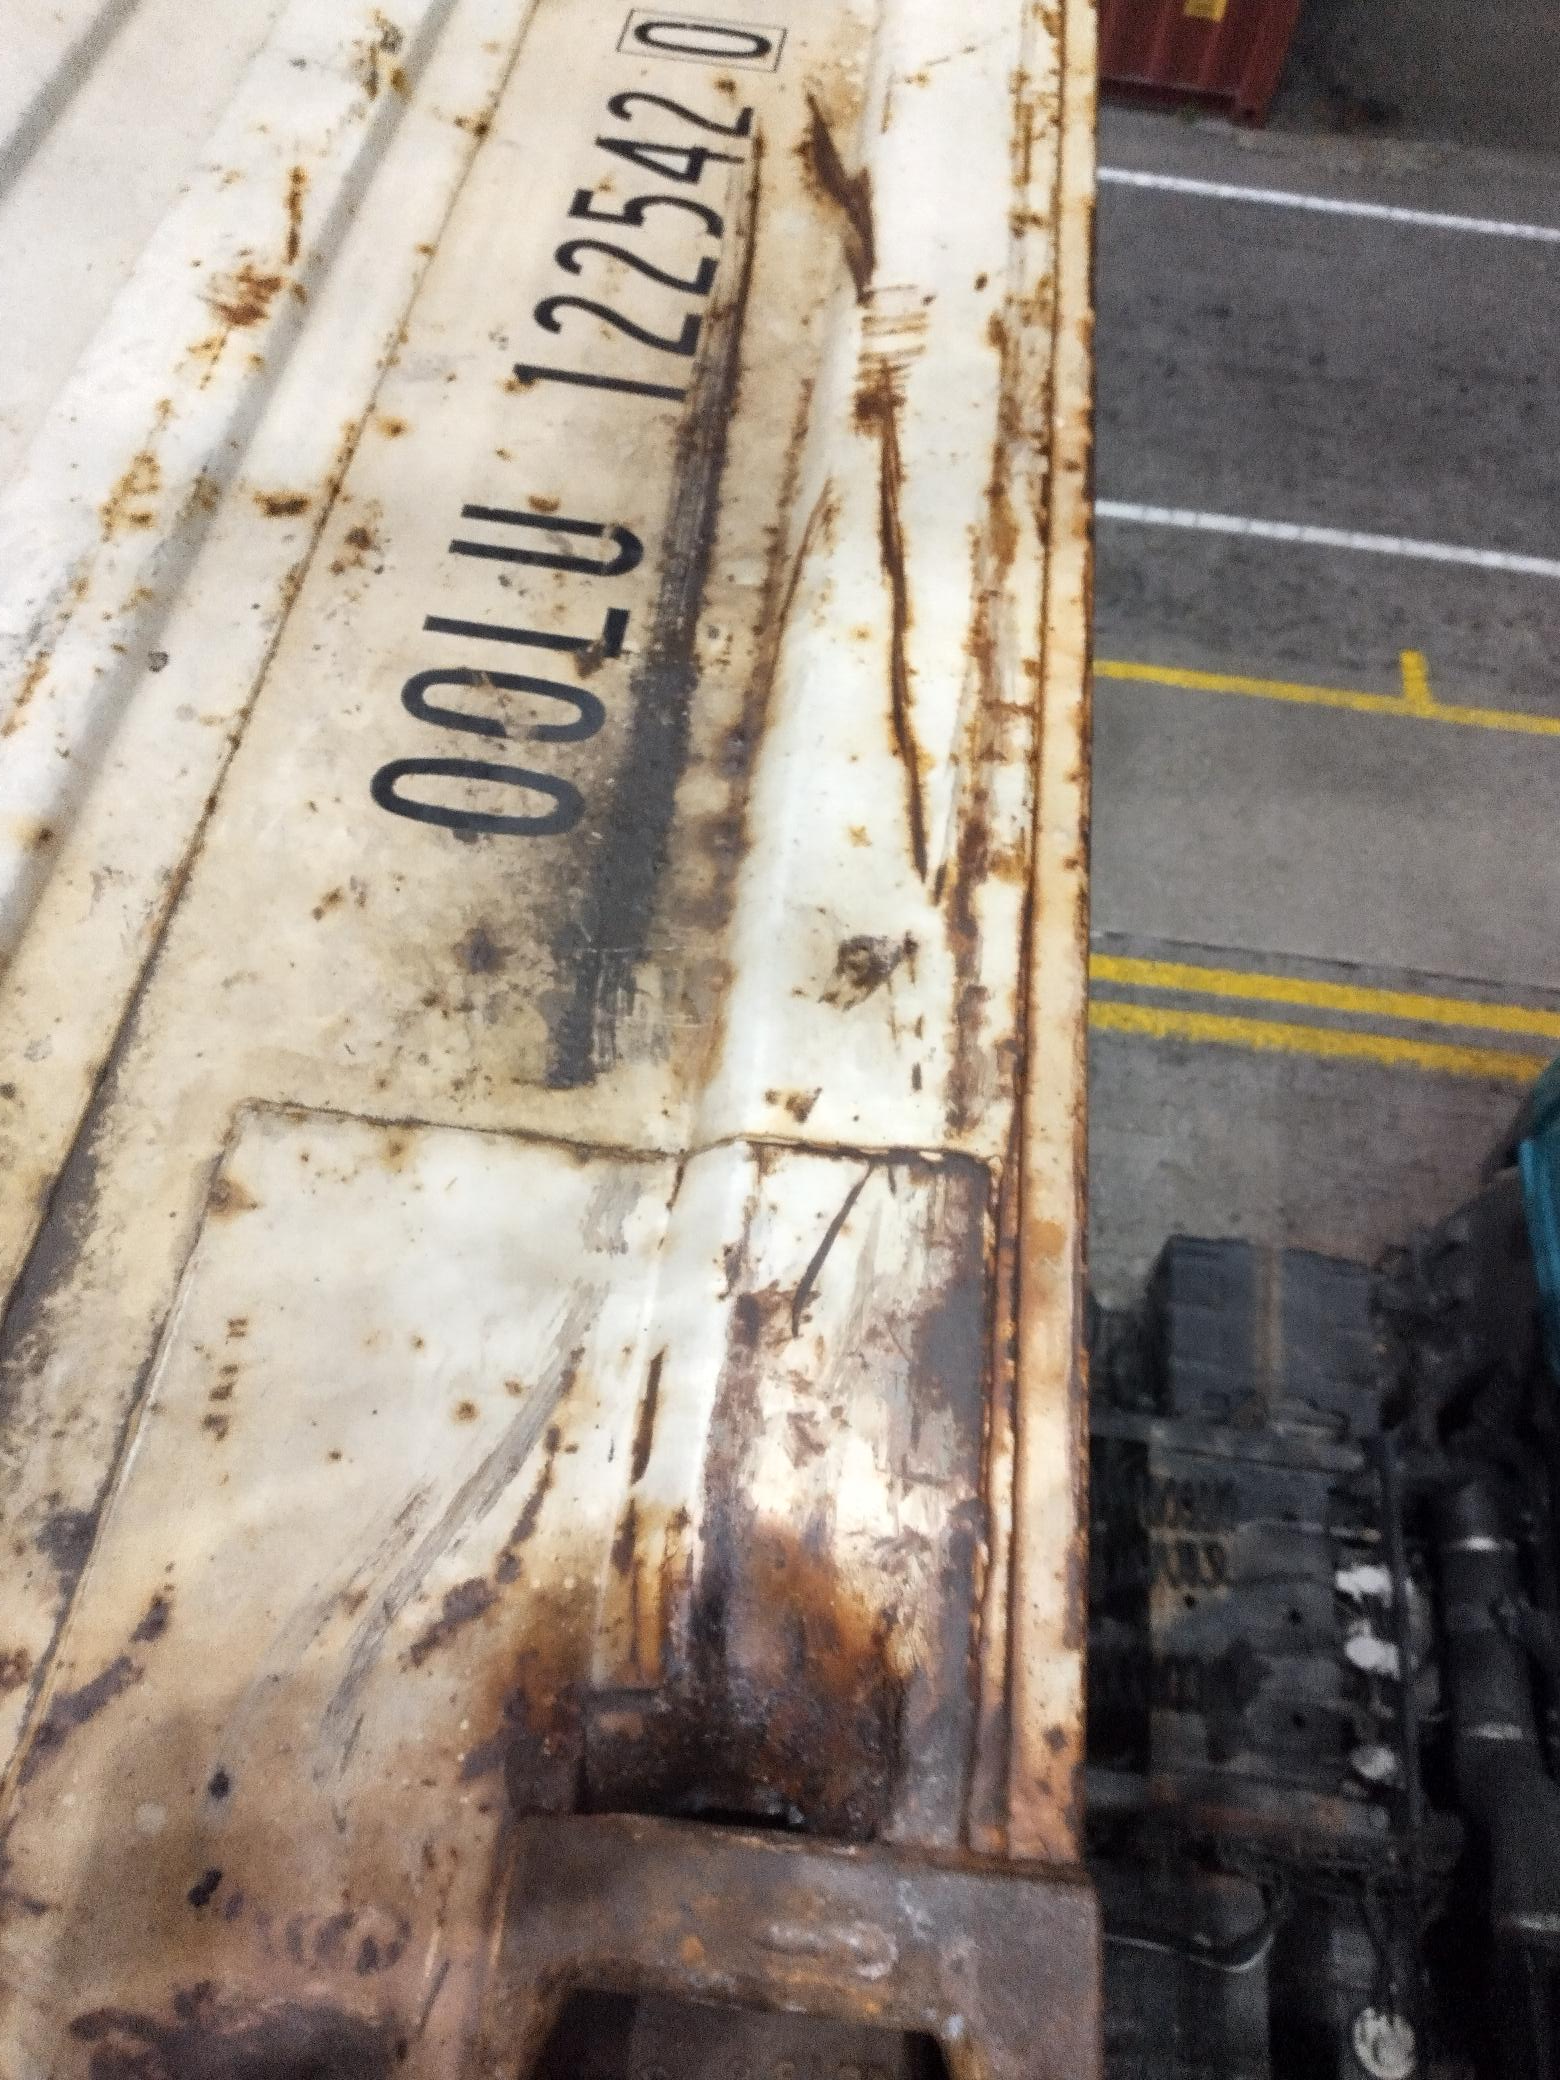cut: (401, 1574, 946, 1905)
